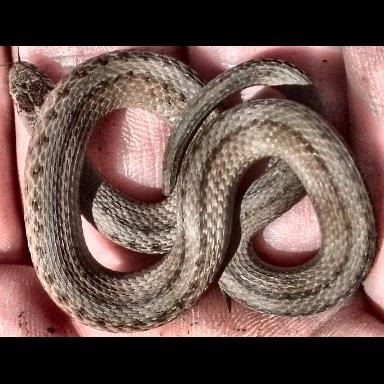snake: (9, 50, 378, 333)
